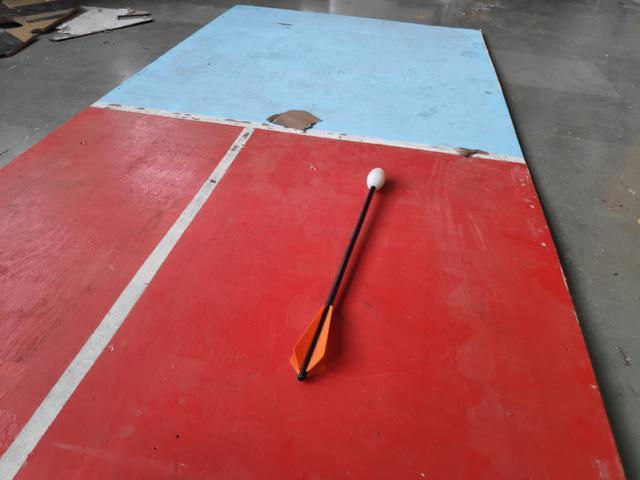Head: (365, 162, 388, 193)
Tail: (289, 302, 336, 384)
